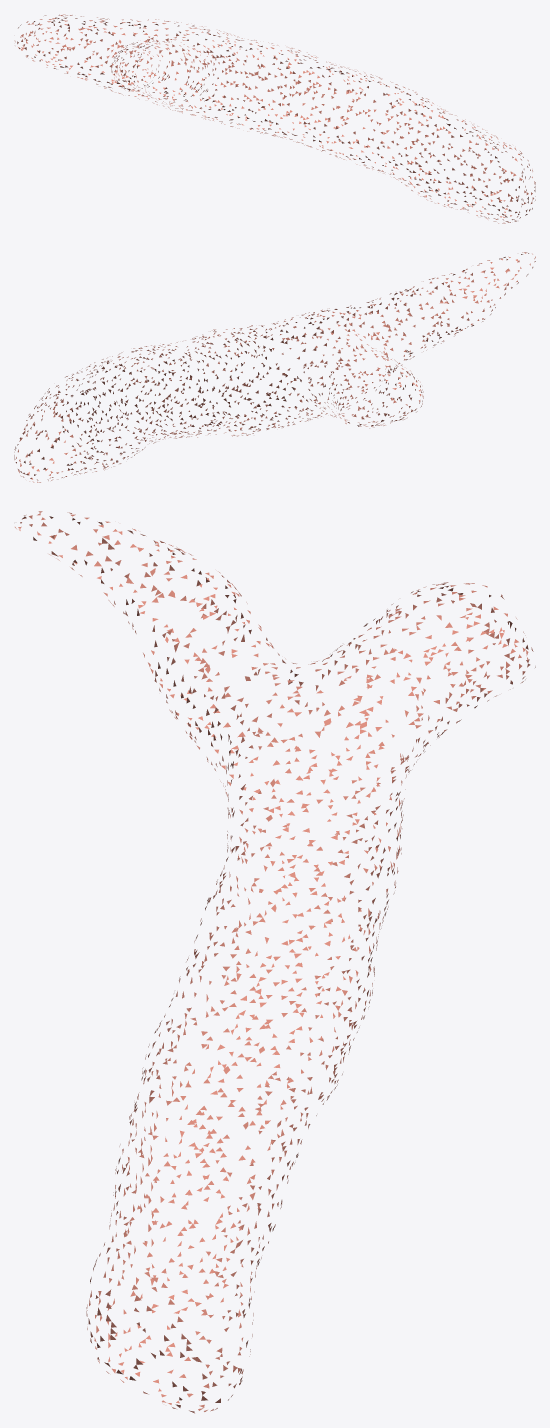
Rendered from morph_002.glb.
The picture shows the model from 3 angles, top to bottom: view 1: azimuth 30°, elevation 25°; view 2: azimuth 150°, elevation 25°; view 3: azimuth 270°, elevation 25°; orthographic projection. The views are drawn at different scales.
Size of the model in its own units: 99.57 by 60.88 by 54.64.
